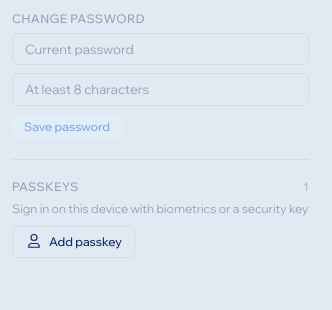
Test case: SecuritySettings › привязывает ключ к аккаунту
Click the button "Add passkey" at (74, 242), box [12,226,135,258]
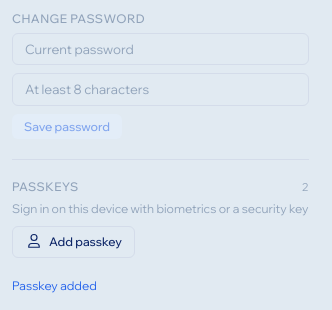
Expected: the text "Passkey added" is shown, [12,278,97,293]
